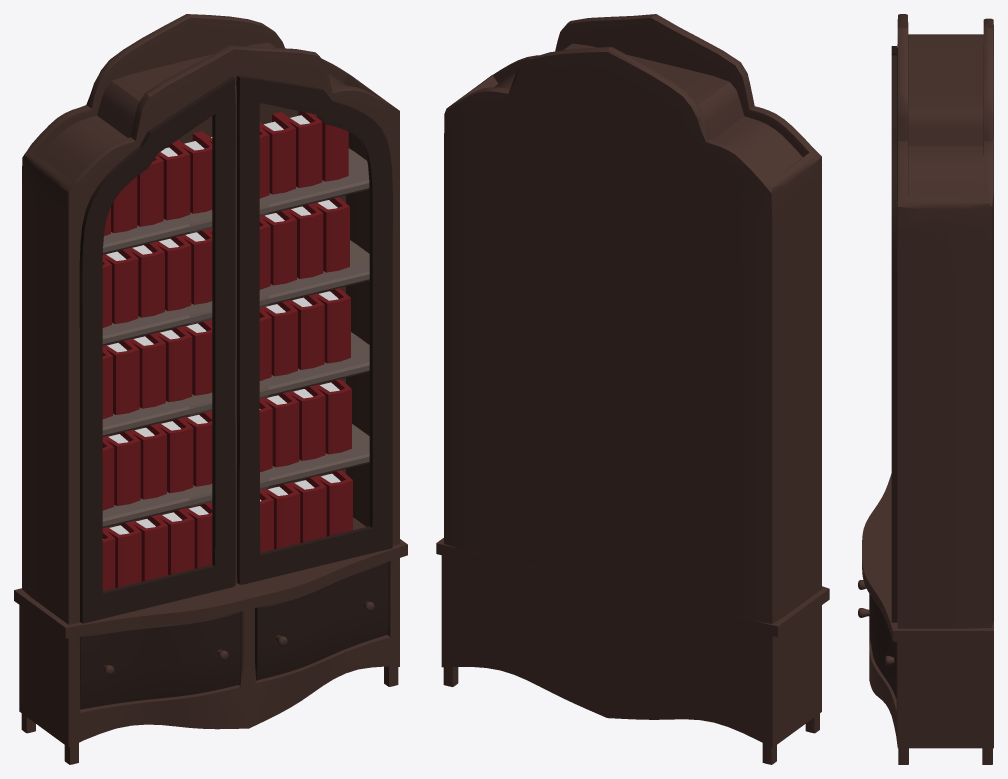
File: RegalMesh.gltf
3 views of the same model, side by side, from view 1: azimuth 30°, elevation 25°; view 2: azimuth 150°, elevation 25°; view 3: azimuth 270°, elevation 25° (orthographic). The views are drawn at different scales.
Visible parts, largest first — view 1: Plane, Bücher; view 2: Plane; view 3: Plane.
Boxes of the visible parts, bbox=[...] form: Plane: bbox=[14, 14, 407, 764]; Bücher: bbox=[102, 111, 352, 591]; Plane: bbox=[436, 14, 829, 764]; Plane: bbox=[858, 14, 993, 764].
Size of the model in its own units: 4.14 by 7.81 by 1.46.
